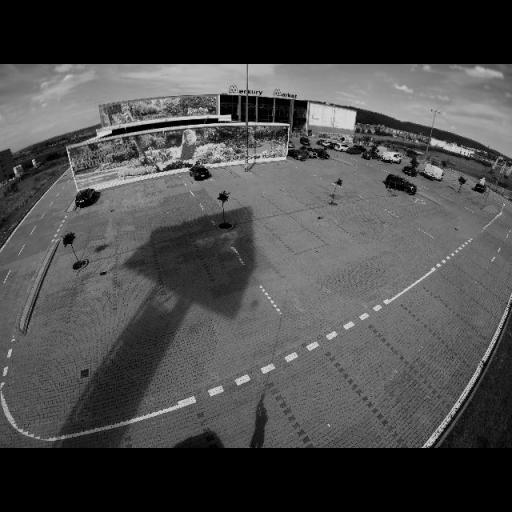busy: (384, 174, 422, 196), (419, 161, 448, 181), (74, 186, 100, 208), (188, 164, 212, 182), (470, 178, 490, 196), (286, 148, 309, 162), (381, 150, 403, 164), (313, 146, 333, 160), (402, 162, 419, 177), (360, 150, 378, 162), (303, 146, 319, 158)
free: (288, 376, 355, 422), (354, 344, 400, 396), (117, 261, 160, 294), (388, 320, 426, 354), (73, 278, 114, 308), (117, 220, 152, 250), (161, 248, 194, 278), (151, 216, 182, 242), (85, 235, 115, 261), (204, 242, 239, 262), (422, 305, 450, 330), (186, 210, 210, 234), (276, 221, 306, 240), (437, 288, 464, 308), (307, 214, 335, 232), (244, 230, 272, 248), (224, 205, 252, 221), (337, 208, 362, 224), (248, 200, 270, 214), (102, 191, 127, 203), (468, 268, 488, 282), (456, 278, 475, 292), (129, 184, 149, 196), (295, 193, 315, 204), (272, 196, 292, 206), (318, 187, 333, 200), (354, 187, 370, 199), (214, 171, 231, 181), (169, 176, 186, 186), (149, 180, 165, 190), (233, 166, 249, 174), (380, 202, 392, 208)
